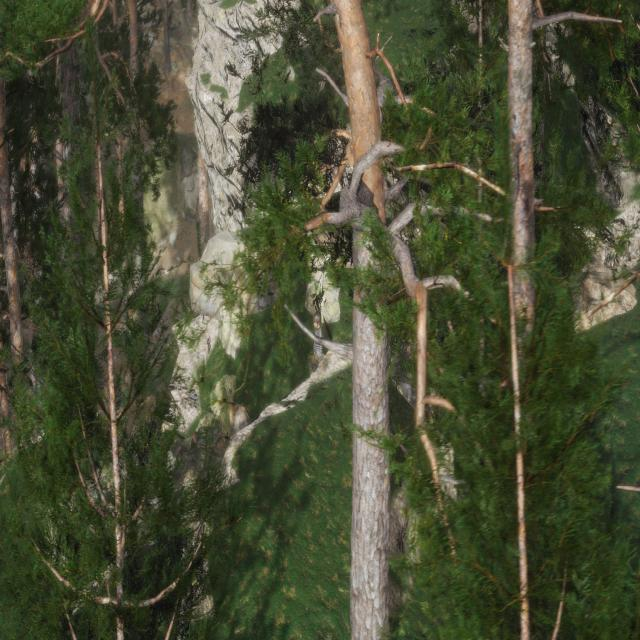Human: (306, 308, 325, 394)
